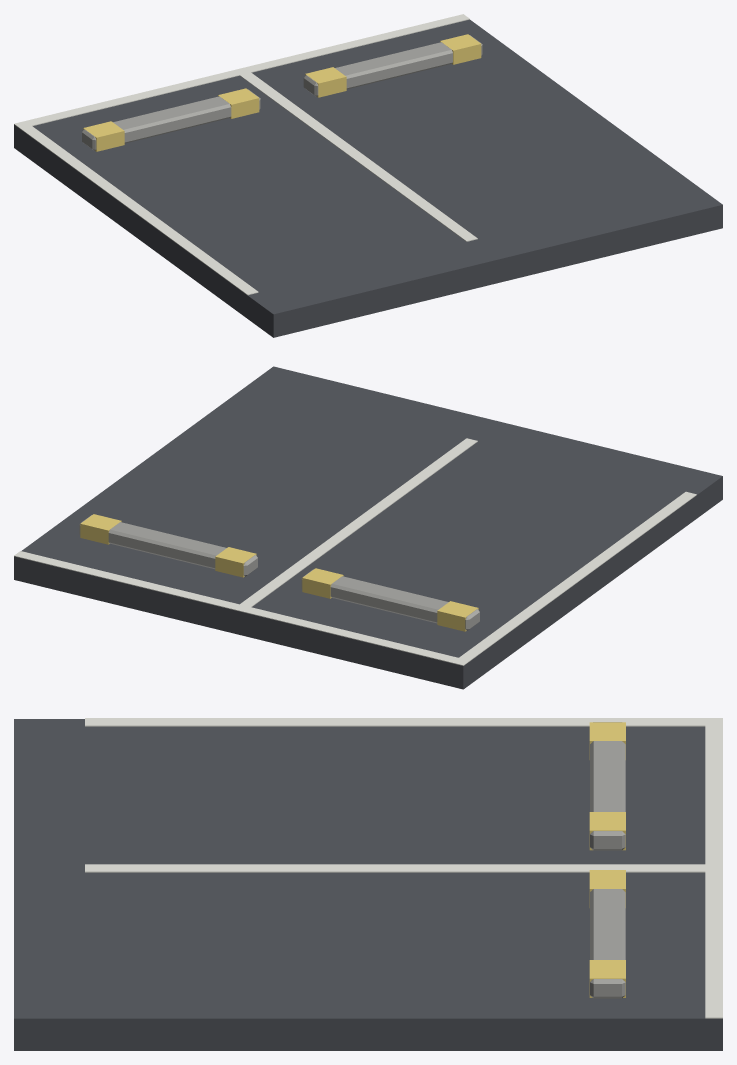
Rendered from Mart_Lot_Stalls_Wheelstop_4m.glb.
The picture shows the model from 3 angles, top to bottom: view 1: azimuth 30°, elevation 25°; view 2: azimuth 150°, elevation 25°; view 3: azimuth 270°, elevation 25°; orthographic projection. The views are drawn at different scales.
Visible parts, largest first — view 1: Mart_Lot_Stalls_Wheelstop_4m; view 2: Mart_Lot_Stalls_Wheelstop_4m; view 3: Mart_Lot_Stalls_Wheelstop_4m.
Part boxes in pixels (x1,y1,x2,y2): Mart_Lot_Stalls_Wheelstop_4m: (14, 14, 722, 337); Mart_Lot_Stalls_Wheelstop_4m: (14, 366, 722, 689); Mart_Lot_Stalls_Wheelstop_4m: (14, 718, 722, 1050).
Size of the model in its own units: 4 by 0.3205 by 4.
1 material, 1 textured.
